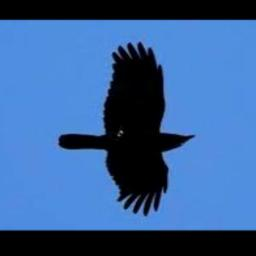Crow: (59, 42, 195, 216)
